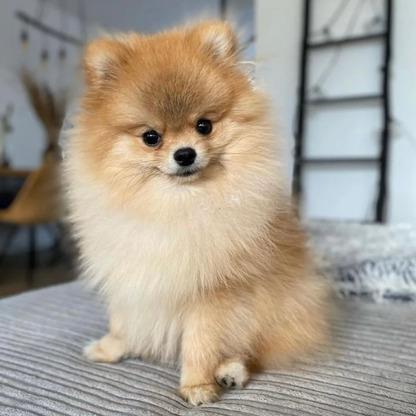Pomeranian: (39, 23, 363, 393)
